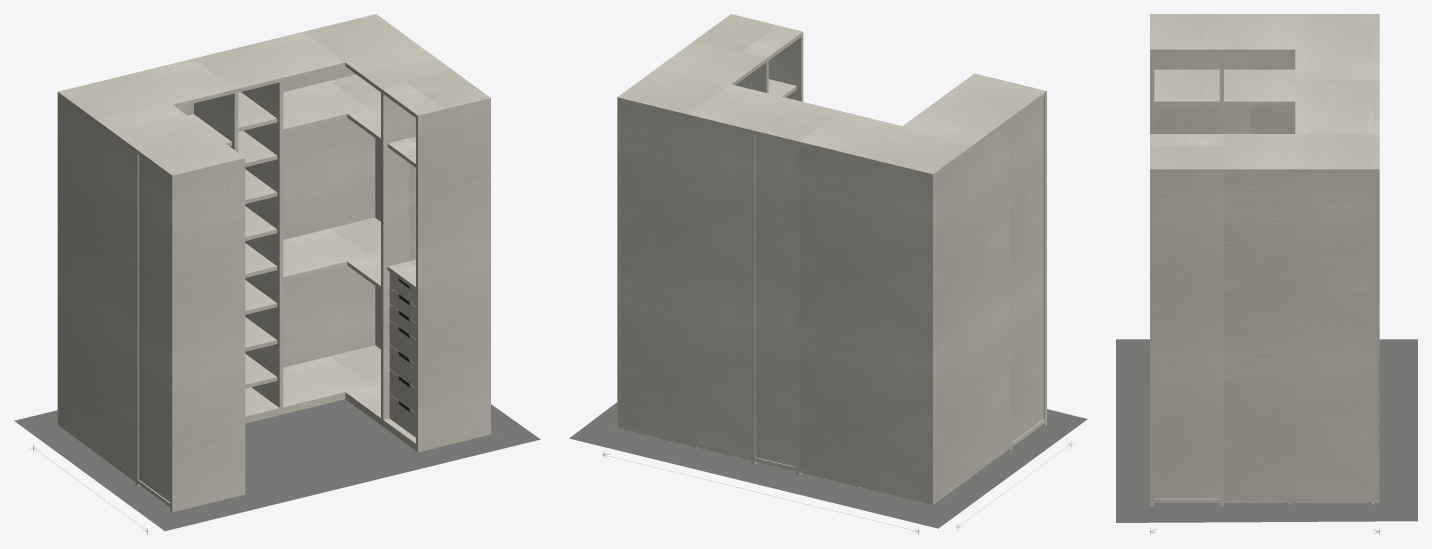
File: B2-CON-COS-D3-PC-TI.obj
The picture shows the model from 3 angles, left to right: view 1: azimuth 30°, elevation 25°; view 2: azimuth 150°, elevation 25°; view 3: azimuth 270°, elevation 25°; orthographic projection.
Visible parts, largest first — view 1: Mesh5 B2_CON_COS_PC_DXF1 Model, Mesh25 B2_CON_COS_PC_DXF1 Model, Mesh2 B2_CON_COS_PC_DXF1 Model, Mesh70 B2_CON_COS_PC_DXF1 Model, Mesh108 B2_CON_COS_PC_DXF1 Model, Mesh6 B2_CON_COS_PC_DXF1 Model, Mesh109 B2_CON_COS_PC_DXF1 Model, Mesh63 B2_CON_COS_PC_DXF1 Model, Mesh86 B2_CON_COS_PC_DXF1 Model, Mesh77 B2_CON_COS_PC_DXF1 Model, Mesh85 B2_CON_COS_PC_DXF1 Model, Mesh76 B2_CON_COS_PC_DXF1 Model (+9 smaller); view 2: Mesh25 B2_CON_COS_PC_DXF1 Model, Mesh70 B2_CON_COS_PC_DXF1 Model, Mesh5 B2_CON_COS_PC_DXF1 Model, Mesh52 B2_CON_COS_PC_DXF1 Model, Mesh6 B2_CON_COS_PC_DXF1 Model, Mesh109 B2_CON_COS_PC_DXF1 Model, Mesh108 B2_CON_COS_PC_DXF1 Model, Mesh2 B2_CON_COS_PC_DXF1 Model, Mesh18 B2_CON_COS_PC_DXF1 Model, Mesh63 B2_CON_COS_PC_DXF1 Model; view 3: Mesh70 B2_CON_COS_PC_DXF1 Model, Mesh5 B2_CON_COS_PC_DXF1 Model, Mesh96 B2_CON_COS_PC_DXF1 Model, Mesh109 B2_CON_COS_PC_DXF1 Model, Mesh108 B2_CON_COS_PC_DXF1 Model, Mesh25 B2_CON_COS_PC_DXF1 Model, Mesh6 B2_CON_COS_PC_DXF1 Model, Mesh31 B2_CON_COS_PC_DXF1 Model, Mesh10 B2_CON_COS_PC_DXF1 Model, Mesh63 B2_CON_COS_PC_DXF1 Model, Mesh2 B2_CON_COS_PC_DXF1 Model.
Part boxes in pixels (left/top/right/bottom): Mesh5 B2_CON_COS_PC_DXF1 Model: left=57, top=14, right=490, bottom=506; Mesh25 B2_CON_COS_PC_DXF1 Model: left=57, top=96, right=193, bottom=477; Mesh2 B2_CON_COS_PC_DXF1 Model: left=170, top=156, right=245, bottom=512; Mesh70 B2_CON_COS_PC_DXF1 Model: left=283, top=66, right=380, bottom=367; Mesh108 B2_CON_COS_PC_DXF1 Model: left=53, top=399, right=501, bottom=514; Mesh6 B2_CON_COS_PC_DXF1 Model: left=138, top=155, right=170, bottom=502; Mesh109 B2_CON_COS_PC_DXF1 Model: left=14, top=404, right=540, bottom=531; Mesh63 B2_CON_COS_PC_DXF1 Model: left=283, top=345, right=380, bottom=417; Mesh86 B2_CON_COS_PC_DXF1 Model: left=309, top=217, right=380, bottom=289; Mesh77 B2_CON_COS_PC_DXF1 Model: left=309, top=74, right=380, bottom=141; Mesh85 B2_CON_COS_PC_DXF1 Model: left=283, top=234, right=347, bottom=280; Mesh76 B2_CON_COS_PC_DXF1 Model: left=283, top=86, right=347, bottom=133; Mesh25 B2_CON_COS_PC_DXF1 Model: left=799, top=122, right=1010, bottom=500; Mesh70 B2_CON_COS_PC_DXF1 Model: left=617, top=101, right=750, bottom=456; Mesh5 B2_CON_COS_PC_DXF1 Model: left=617, top=14, right=1044, bottom=475; Mesh52 B2_CON_COS_PC_DXF1 Model: left=755, top=135, right=795, bottom=466; Mesh6 B2_CON_COS_PC_DXF1 Model: left=1012, top=97, right=1043, bottom=441; Mesh109 B2_CON_COS_PC_DXF1 Model: left=569, top=402, right=1087, bottom=528; Mesh108 B2_CON_COS_PC_DXF1 Model: left=607, top=423, right=1049, bottom=512; Mesh2 B2_CON_COS_PC_DXF1 Model: left=973, top=73, right=1046, bottom=426; Mesh18 B2_CON_COS_PC_DXF1 Model: left=799, top=445, right=1010, bottom=504; Mesh63 B2_CON_COS_PC_DXF1 Model: left=617, top=424, right=750, bottom=460; Mesh70 B2_CON_COS_PC_DXF1 Model: left=1224, top=173, right=1379, bottom=499; Mesh5 B2_CON_COS_PC_DXF1 Model: left=1150, top=14, right=1379, bottom=506; Mesh96 B2_CON_COS_PC_DXF1 Model: left=1154, top=173, right=1219, bottom=498; Mesh109 B2_CON_COS_PC_DXF1 Model: left=1116, top=339, right=1417, bottom=522; Mesh108 B2_CON_COS_PC_DXF1 Model: left=1144, top=351, right=1389, bottom=510; Mesh25 B2_CON_COS_PC_DXF1 Model: left=1224, top=53, right=1295, bottom=133; Mesh6 B2_CON_COS_PC_DXF1 Model: left=1154, top=53, right=1219, bottom=133; Mesh31 B2_CON_COS_PC_DXF1 Model: left=1224, top=69, right=1295, bottom=105; Mesh10 B2_CON_COS_PC_DXF1 Model: left=1154, top=69, right=1219, bottom=105; Mesh63 B2_CON_COS_PC_DXF1 Model: left=1224, top=499, right=1379, bottom=502; Mesh2 B2_CON_COS_PC_DXF1 Model: left=1150, top=14, right=1154, bottom=133.
Bounding box in the file's own units: 122 × 109 × 84.02.
Materials: 5 (2 with a texture image).
